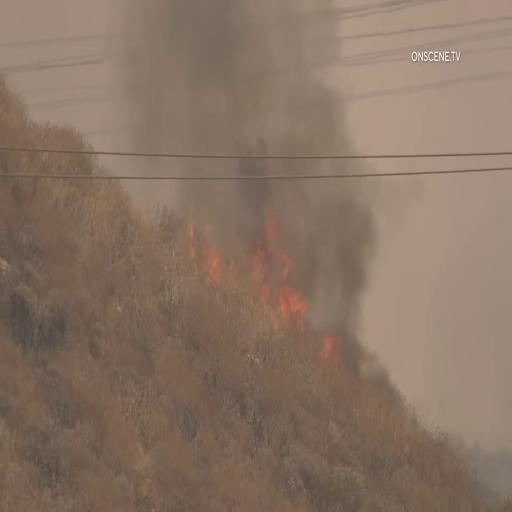fire: (185, 212, 307, 320)
smoke: (127, 13, 280, 208), (286, 107, 388, 299)
